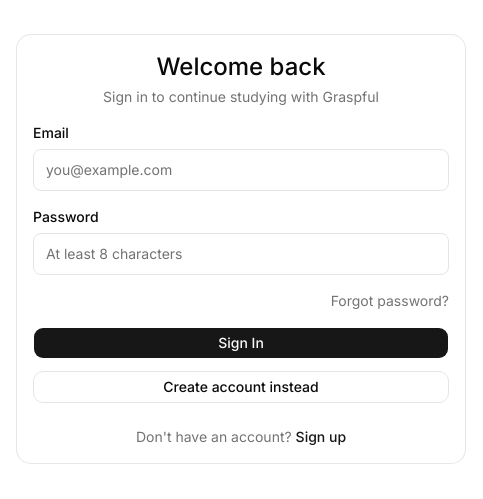
AuthForm › restores the button after an auth failure and allows a successful retry
The image size is (483, 499).
Step 1. Type "person@example.com" into the field labelled "Email" → coordinates (241, 170), box [33,148,449,190]
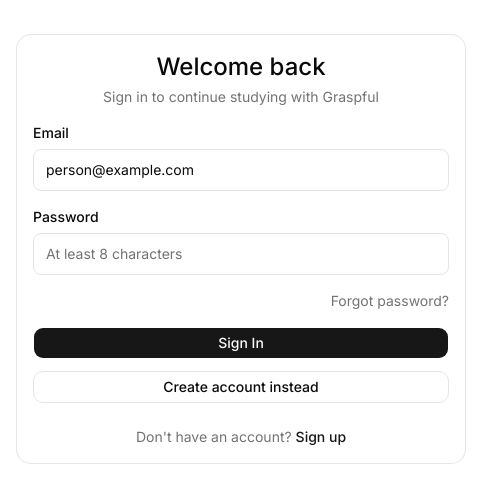
Step 2. Type "password123" into the password field labelled "Password" → coordinates (241, 254), box [33,232,449,274]
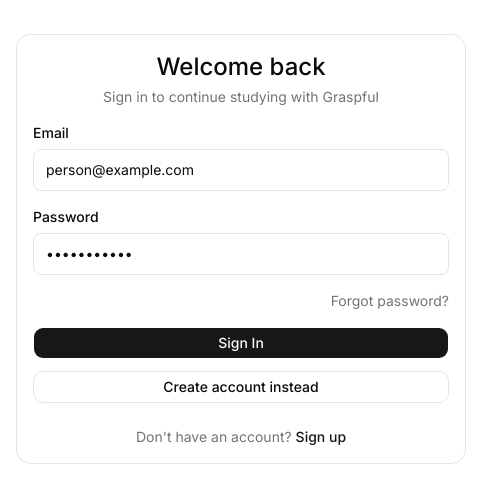
Step 3. Click the button "Sign In" → coordinates (241, 342), box [33,326,449,358]
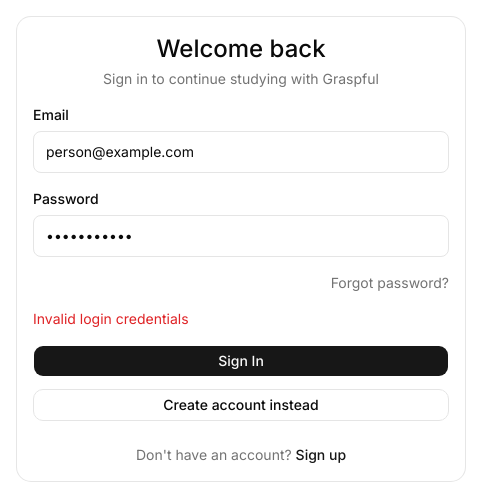
Check: the message reads "Invalid login credentials", box [33,310,189,326]
Step 4. Click the button "Sign In" → coordinates (241, 360), box [33,344,449,376]
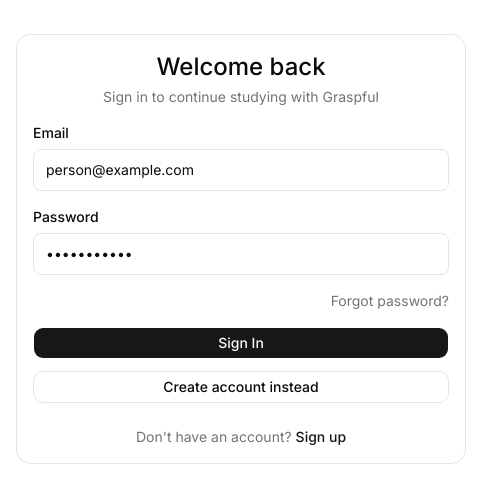
Check: the message "Invalid login credentials" is gone
